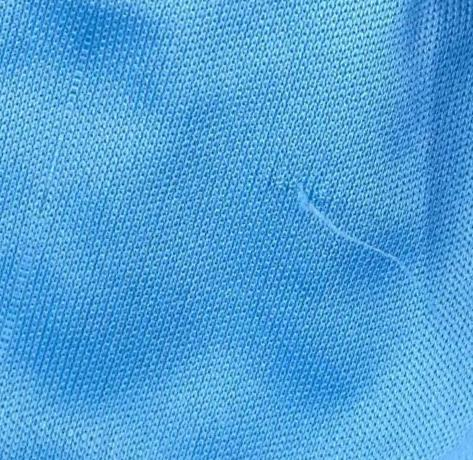snag: (292, 174, 425, 289)
